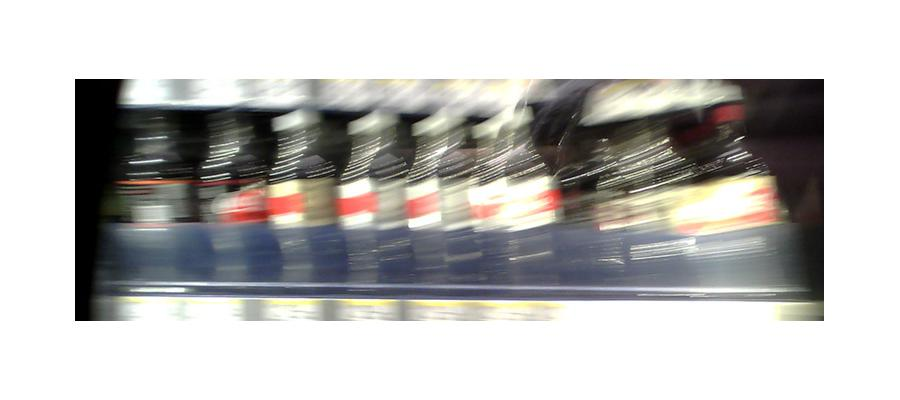bottle: (342, 115, 416, 287), (270, 121, 347, 284), (203, 117, 268, 294)
